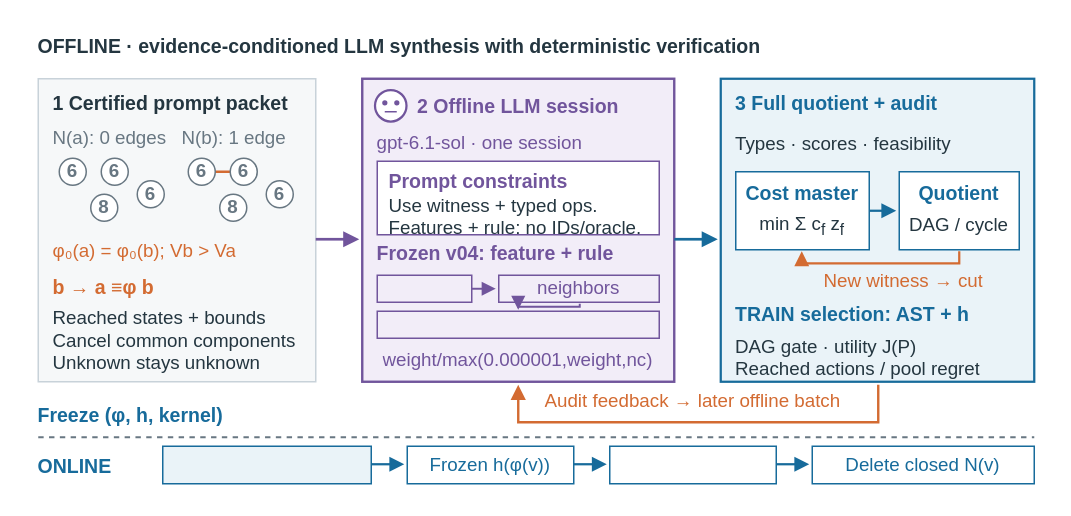
This 1071x516 diagram has some shape labels left out. Here are the shapes that lost their labels. From the top down, the centre of each, then its label:
At [424,288]: "root".
At [517,324]: "nc = clique_cover_weight".
At [266,464]: "Score-sliced DAG".
At [692,464]: "Commit argmax".
